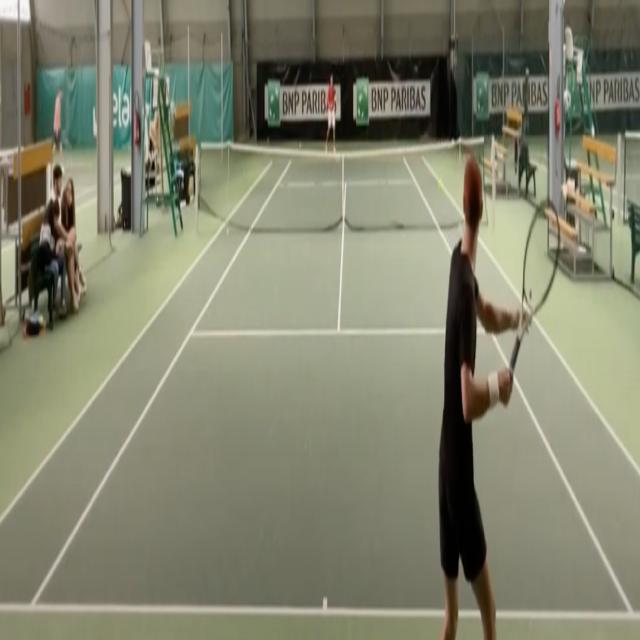ball: (438, 178, 442, 193)
